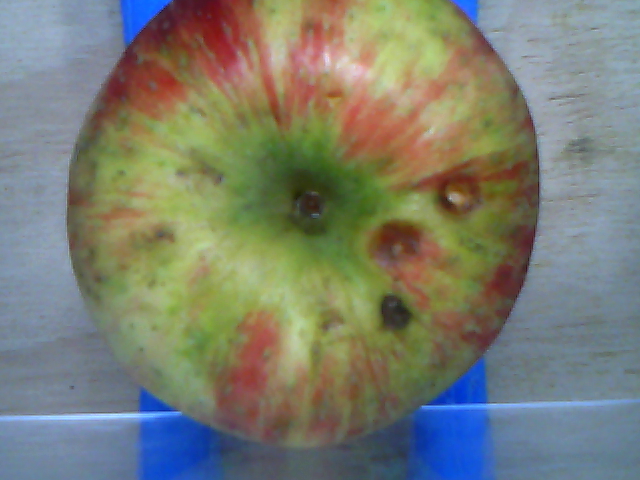puncture: (440, 175, 478, 213)
